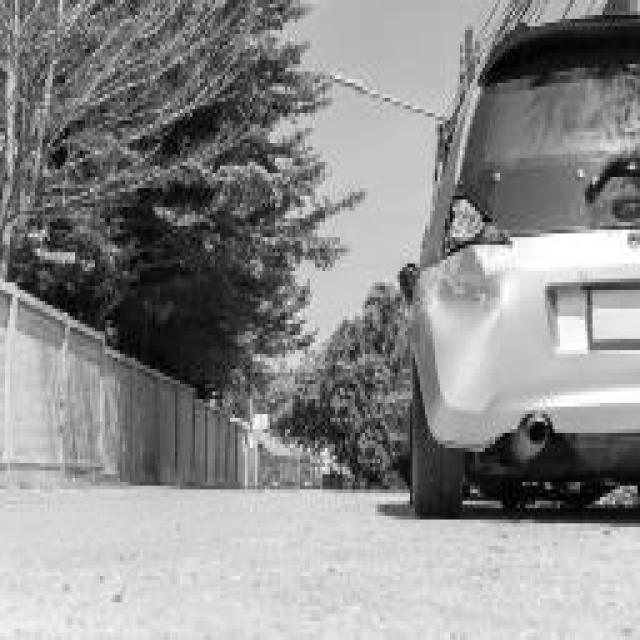Bumper: (425, 260, 518, 418)
